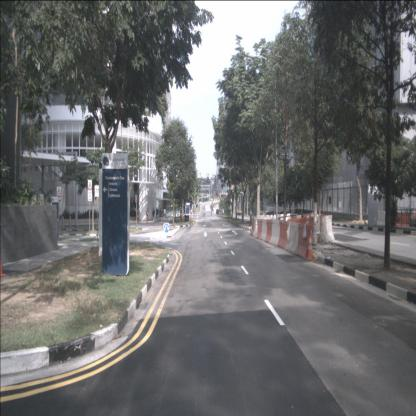barrier: (296, 224, 314, 260), (288, 216, 311, 244), (284, 222, 300, 255), (321, 216, 335, 243), (277, 220, 289, 250), (270, 220, 280, 247), (394, 213, 410, 227), (259, 218, 268, 240), (264, 220, 272, 243), (376, 211, 387, 226), (256, 218, 263, 238), (253, 218, 259, 238), (250, 218, 255, 236)
cone: (0, 248, 9, 277), (306, 233, 314, 261)
